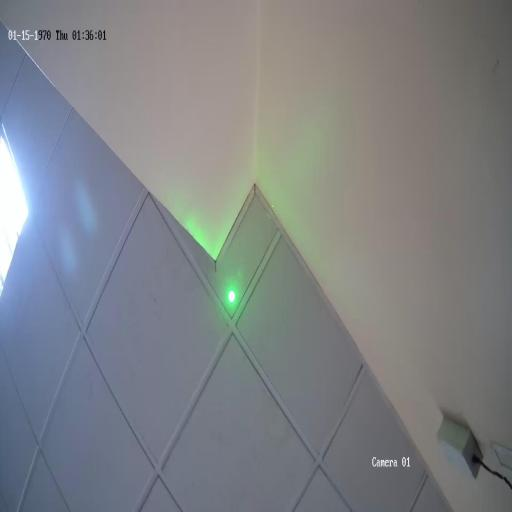laser: (226, 285, 237, 309)
